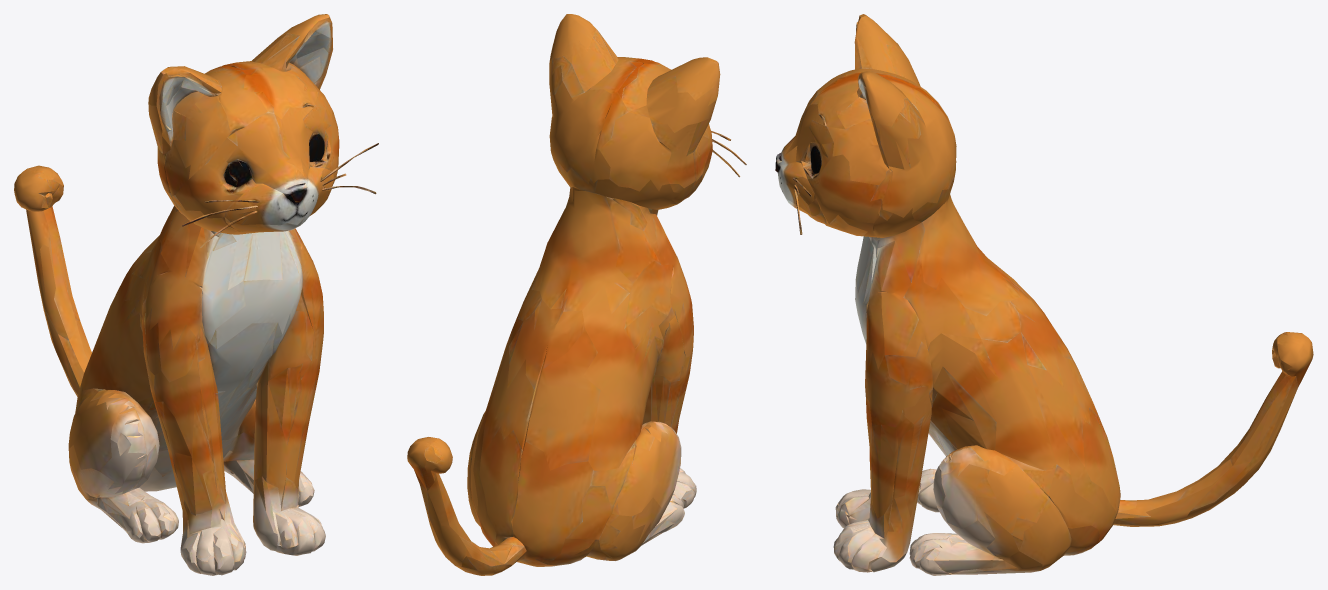
The model's file is cat.glb.
The picture shows the model from 3 angles, left to right: view 1: azimuth 30°, elevation 25°; view 2: azimuth 150°, elevation 25°; view 3: azimuth 270°, elevation 25°; orthographic projection. The views are drawn at different scales.
Visible parts, largest first — view 1: mesh_node; view 2: mesh_node; view 3: mesh_node.
Part boxes in pixels (x1,y1,x2,y2): mesh_node: [14, 14, 378, 575]; mesh_node: [407, 14, 746, 575]; mesh_node: [775, 14, 1313, 575].
Size of the model in its own units: 0.7899 by 1.9 by 1.83.
Materials: 1 (1 with a texture image).
